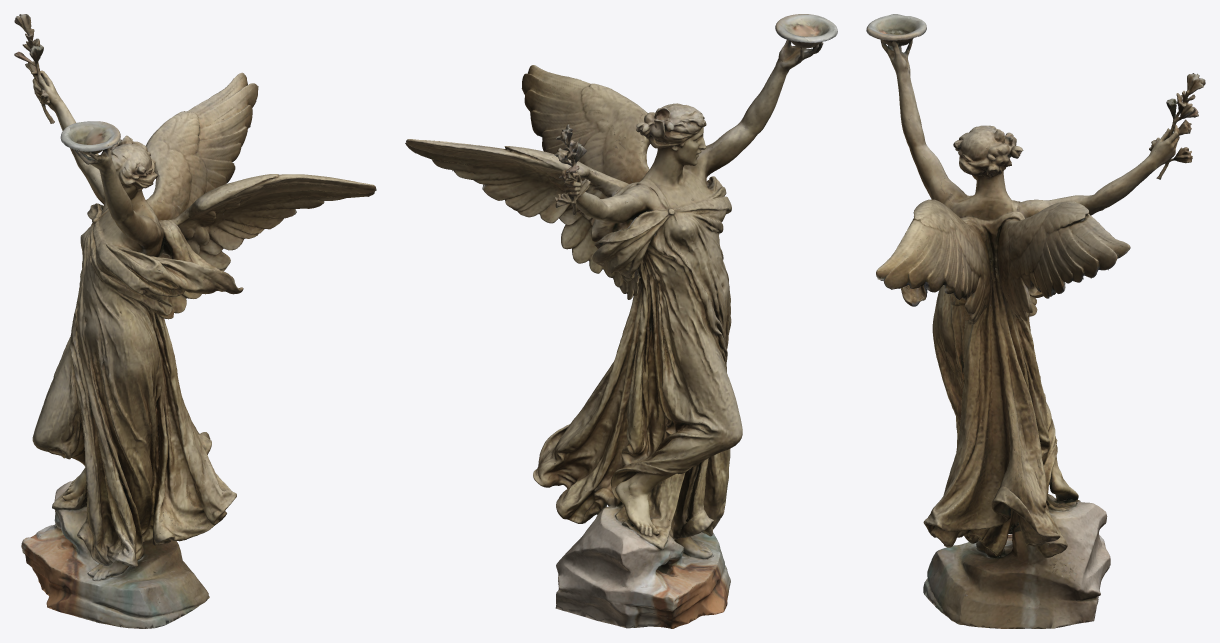
The model's file is preview.glb.
3 renders of one model, left to right at view 1: azimuth 30°, elevation 25°; view 2: azimuth 150°, elevation 25°; view 3: azimuth 270°, elevation 25°, orthographic. The views are drawn at different scales.
Visible parts, largest first — view 1: Object_4, Object_5, Object_6, Object_7; view 2: Object_4, Object_6, Object_5, Object_7; view 3: Object_4, Object_5, Object_6, Object_7.
Boxes of the visible parts, left/top/right/bottom form: Object_4: left=21, top=83, right=376, bottom=628; Object_5: left=14, top=14, right=335, bottom=582; Object_6: left=25, top=63, right=226, bottom=604; Object_7: left=57, top=130, right=255, bottom=413; Object_4: left=407, top=14, right=837, bottom=628; Object_6: left=540, top=19, right=804, bottom=608; Object_5: left=405, top=78, right=742, bottom=623; Object_7: left=473, top=167, right=731, bottom=368; Object_4: left=866, top=15, right=1150, bottom=628; Object_5: left=901, top=73, right=1205, bottom=623; Object_6: left=889, top=26, right=1192, bottom=564; Object_7: left=942, top=245, right=1075, bottom=390.
Size of the model in its own units: 1.37 by 2.25 by 1.31.
2 materials, 2 textured.
